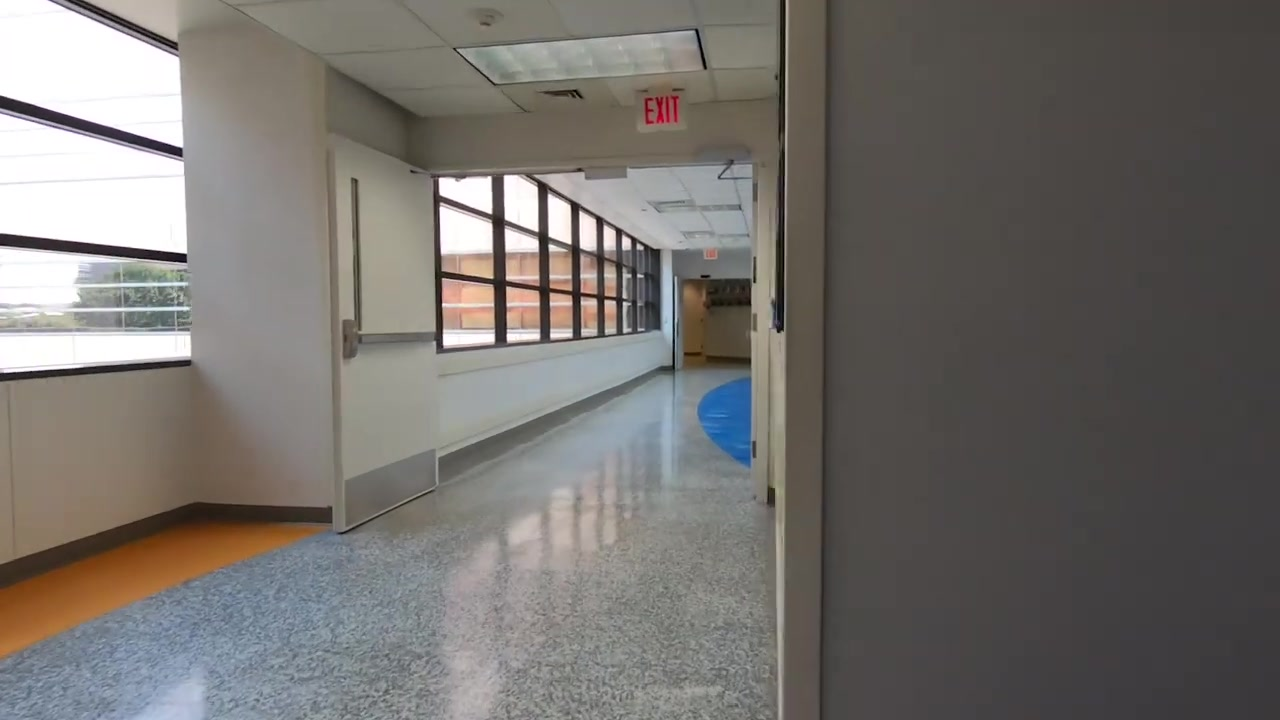push_latch: (343, 322, 438, 357)
